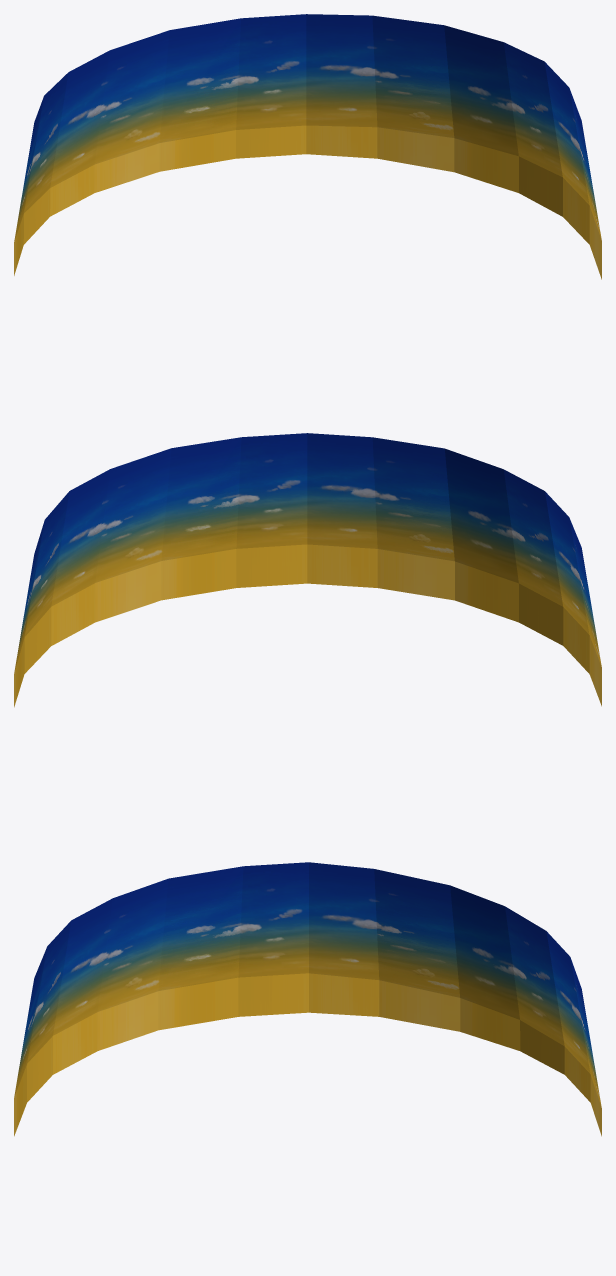
File: vrcorn.glb
The picture shows the model from 3 angles, top to bottom: view 1: azimuth 30°, elevation 25°; view 2: azimuth 150°, elevation 25°; view 3: azimuth 270°, elevation 25°; orthographic projection.
Parts seen in each view (by area): view 1: polygon0; view 2: polygon0; view 3: polygon0.
Boxes of the visible parts, x1=… form: polygon0: x1=14, y1=14, x2=601, y2=279; polygon0: x1=14, y1=433, x2=601, y2=707; polygon0: x1=14, y1=862, x2=601, y2=1136.
Bounding box in the file's own units: 1508 × 644 × 1505.
Materials: 1 (1 with a texture image).
